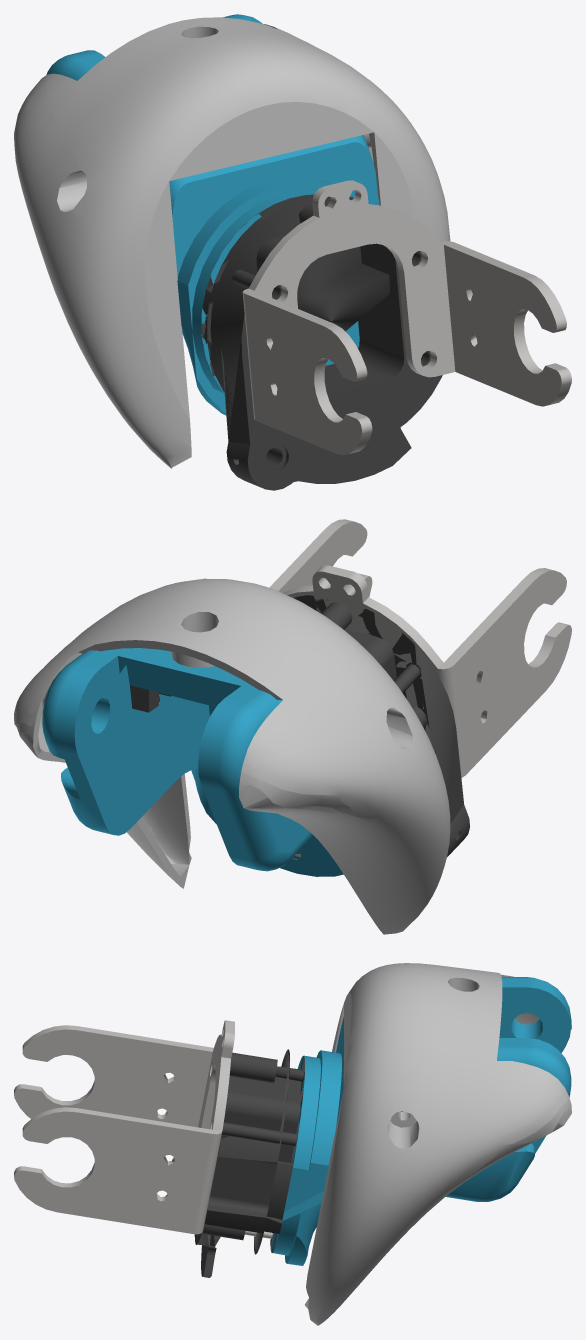
The model's file is l_shoulder_link.dae.
3 renders of one model, top to bottom at view 1: azimuth 30°, elevation 25°; view 2: azimuth 150°, elevation 25°; view 3: azimuth 270°, elevation 25°, orthographic. The views are drawn at different scales.
Parts seen in each view (by area): view 1: FBXASC227FBXASC130FBXASC189FBXASC227FBXASC131FBXASC170FBXASC (×4); view 2: FBXASC227FBXASC130FBXASC189FBXASC227FBXASC131FBXASC170FBXASC (×5); view 3: FBXASC227FBXASC130FBXASC189FBXASC227FBXASC131FBXASC170FBXASC (×4).
Boxes of the visible parts, <box> form: FBXASC227FBXASC130FBXASC189FBXASC227FBXASC131FBXASC170FBXASC (×4): <box>14,14,571,490</box>; FBXASC227FBXASC130FBXASC189FBXASC227FBXASC131FBXASC170FBXASC (×5): <box>14,519,571,934</box>; FBXASC227FBXASC130FBXASC189FBXASC227FBXASC131FBXASC170FBXASC (×4): <box>14,963,571,1325</box>.
Bounding box in the file's own units: 0.0917 × 0.1393 × 0.0842.
